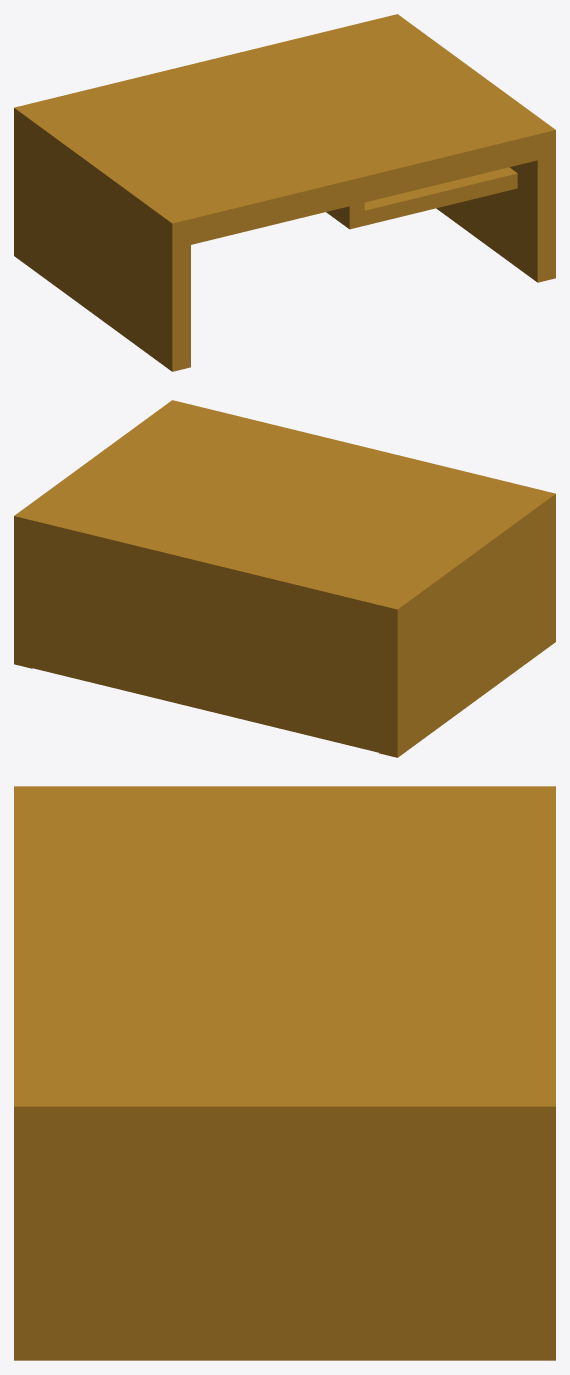
The model's file is _esk.fbx.
3 renders of one model, top to bottom at view 1: azimuth 30°, elevation 25°; view 2: azimuth 150°, elevation 25°; view 3: azimuth 270°, elevation 25°, orthographic. The views are drawn at different scales.
Visible parts, largest first — view 1: pCube1; view 2: pCube1; view 3: pCube1.
Part boxes in pixels (left/top/right/bottom): pCube1: left=14, top=14, right=555, bottom=371; pCube1: left=14, top=400, right=555, bottom=757; pCube1: left=14, top=786, right=555, bottom=1360.
Bounding box in the file's own units: 281 × 104 × 201.
